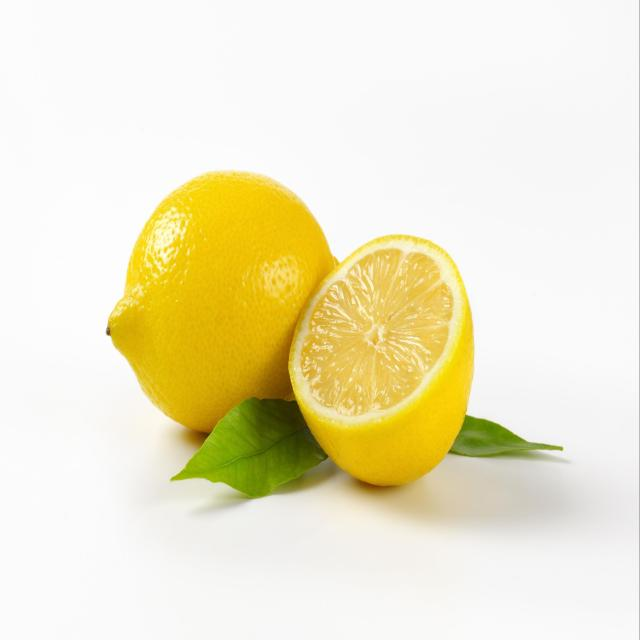lemon: (104, 164, 344, 439), (282, 229, 477, 491)
